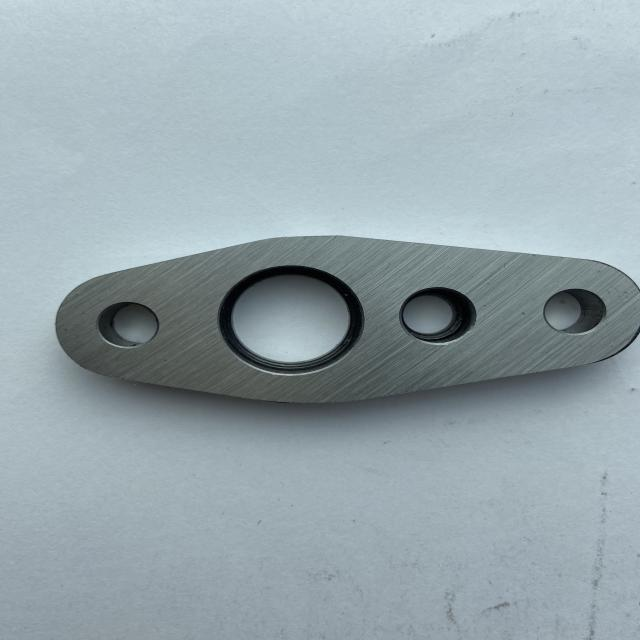chap: (519, 311, 527, 316)
